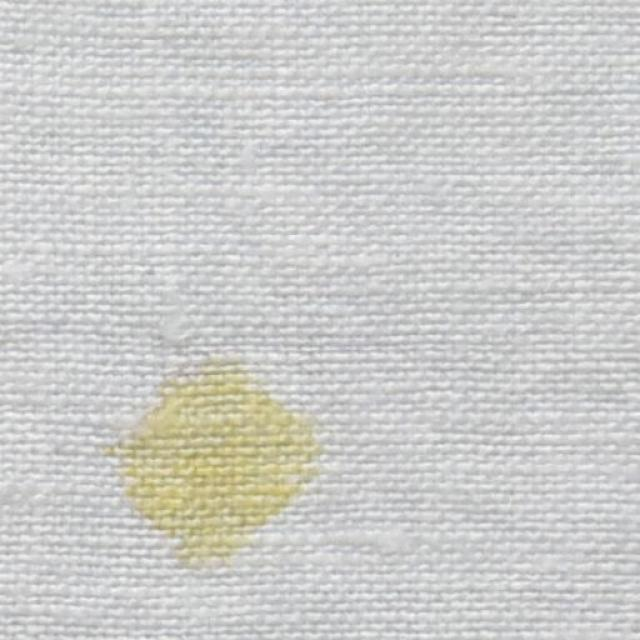Stain: (112, 357, 330, 570)
